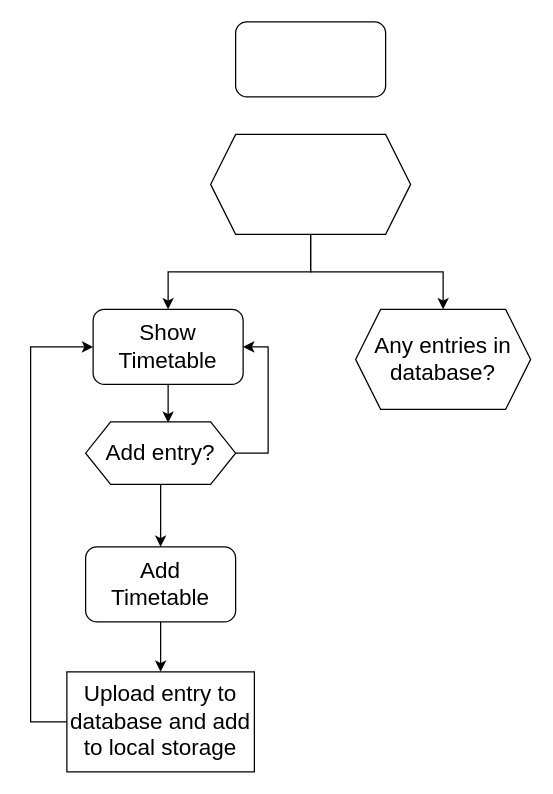
The diagram is 553 pixels wide and 794 high, and some of its shapes have lost their labels. The centre of each missing label's shape, as x and y in pixels:
Any entries in local storage?: (x=310, y=183)
Main Page: (x=310, y=59)
